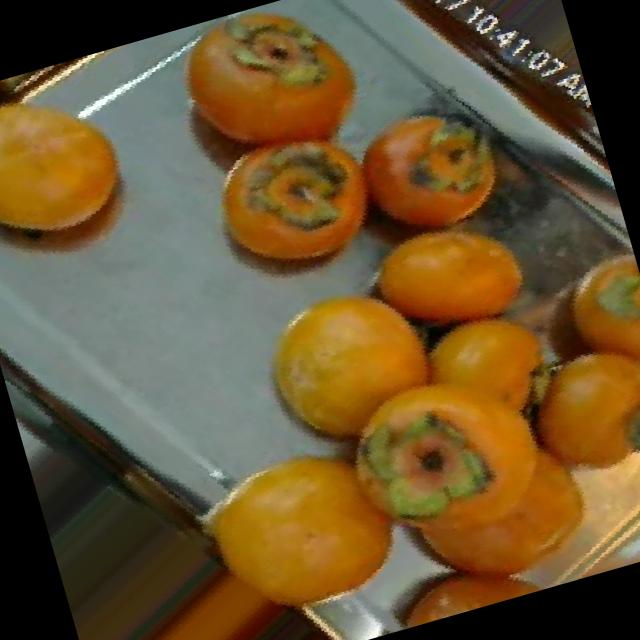Fruit: (215, 240, 472, 488), (159, 79, 415, 324), (0, 53, 173, 302), (404, 0, 560, 36)
